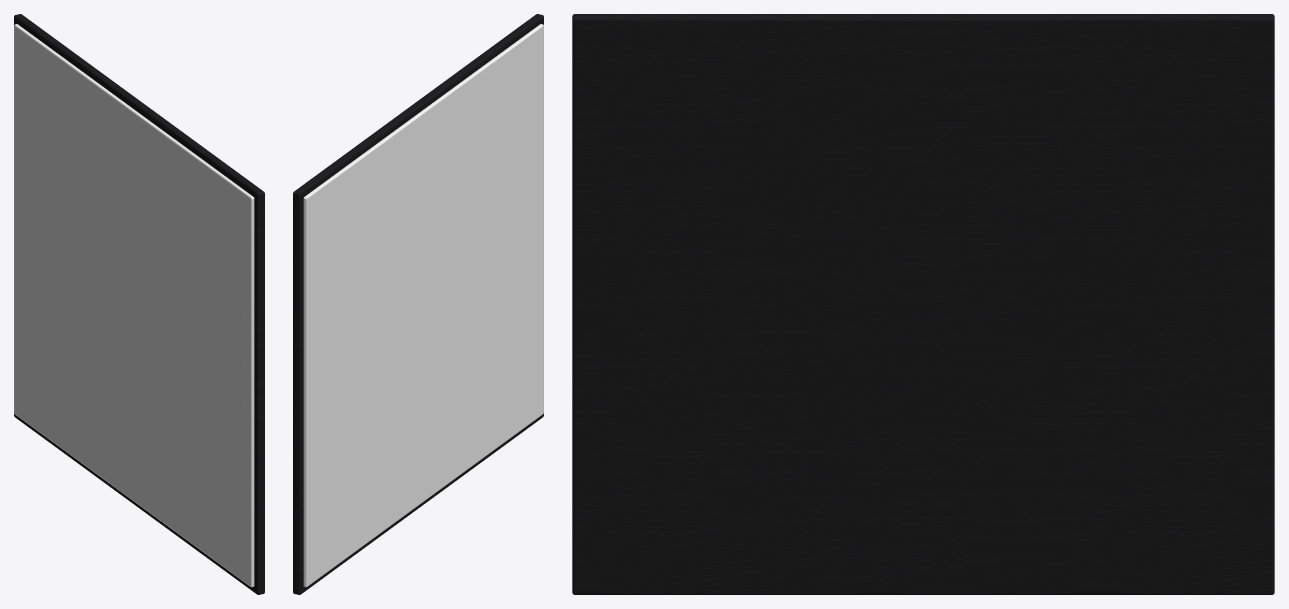
The model's file is ensuite_mirror.glb.
3 views of the same model, side by side, from view 1: azimuth 30°, elevation 25°; view 2: azimuth 150°, elevation 25°; view 3: azimuth 270°, elevation 25° (orthographic). The views are drawn at different scales.
Parts seen in each view (by area): view 1: ensuite_mirror; view 2: ensuite_mirror; view 3: ensuite_mirror.
Boxes of the visible parts, bbox=[...] form: ensuite_mirror: bbox=[14, 14, 264, 594]; ensuite_mirror: bbox=[293, 14, 543, 594]; ensuite_mirror: bbox=[572, 14, 1274, 594].
Bounding box in the file's own units: 0.028 × 0.98 × 1.08.
Materials: 2 (1 with a texture image).
